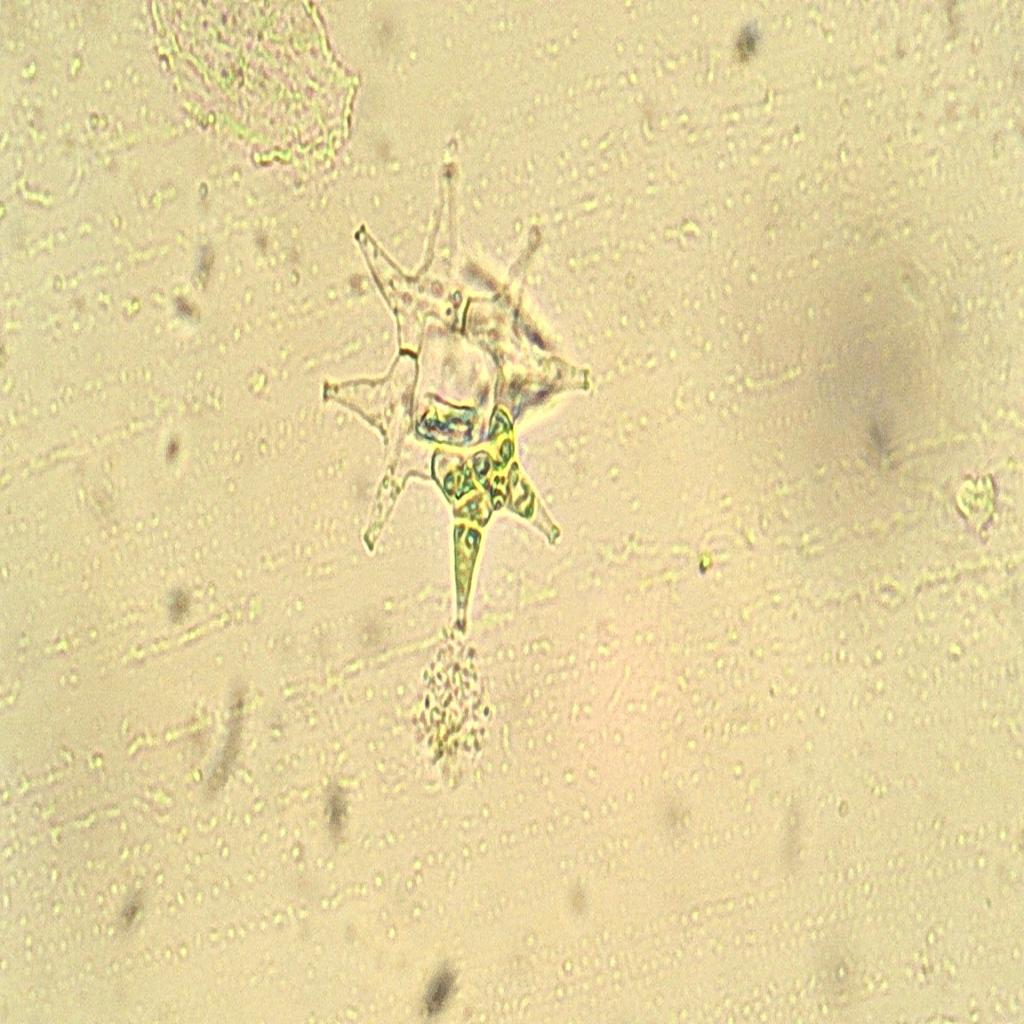Pediastrum_75TH: (292, 139, 620, 676)
